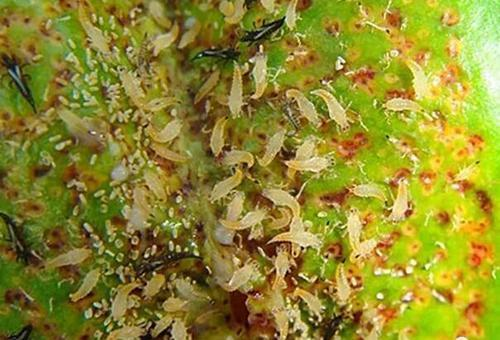Phlaeothripidae: (1, 49, 44, 116), (241, 14, 292, 50), (2, 211, 32, 270), (189, 46, 240, 65), (6, 323, 46, 340)
